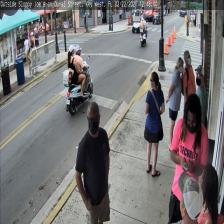person: (168, 92, 208, 224), (75, 101, 109, 224), (143, 71, 165, 175), (170, 170, 203, 224), (167, 57, 184, 151), (195, 163, 219, 223), (181, 50, 196, 141), (193, 64, 207, 155)
